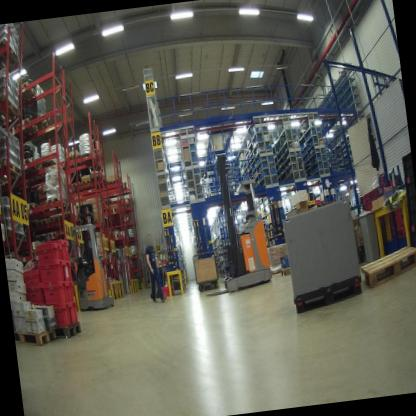forklift: (182, 145, 284, 310), (61, 189, 123, 325)
pallet: (357, 236, 416, 288), (293, 270, 363, 313), (14, 325, 57, 347), (44, 191, 70, 213), (55, 321, 82, 341), (2, 94, 19, 124), (18, 115, 39, 139), (16, 79, 37, 102), (19, 155, 40, 178), (32, 111, 50, 133), (58, 209, 82, 225), (25, 200, 43, 220), (78, 150, 98, 165), (36, 214, 53, 231), (10, 159, 23, 180), (68, 180, 81, 195), (10, 125, 21, 142), (278, 265, 292, 277), (80, 178, 91, 191), (47, 212, 59, 222)
small_load_carrier: (44, 302, 71, 333), (36, 257, 64, 286), (40, 276, 68, 305), (33, 242, 64, 266), (42, 241, 72, 264), (21, 280, 45, 304), (21, 267, 41, 290), (67, 301, 79, 330), (64, 277, 76, 303), (62, 260, 74, 279)
